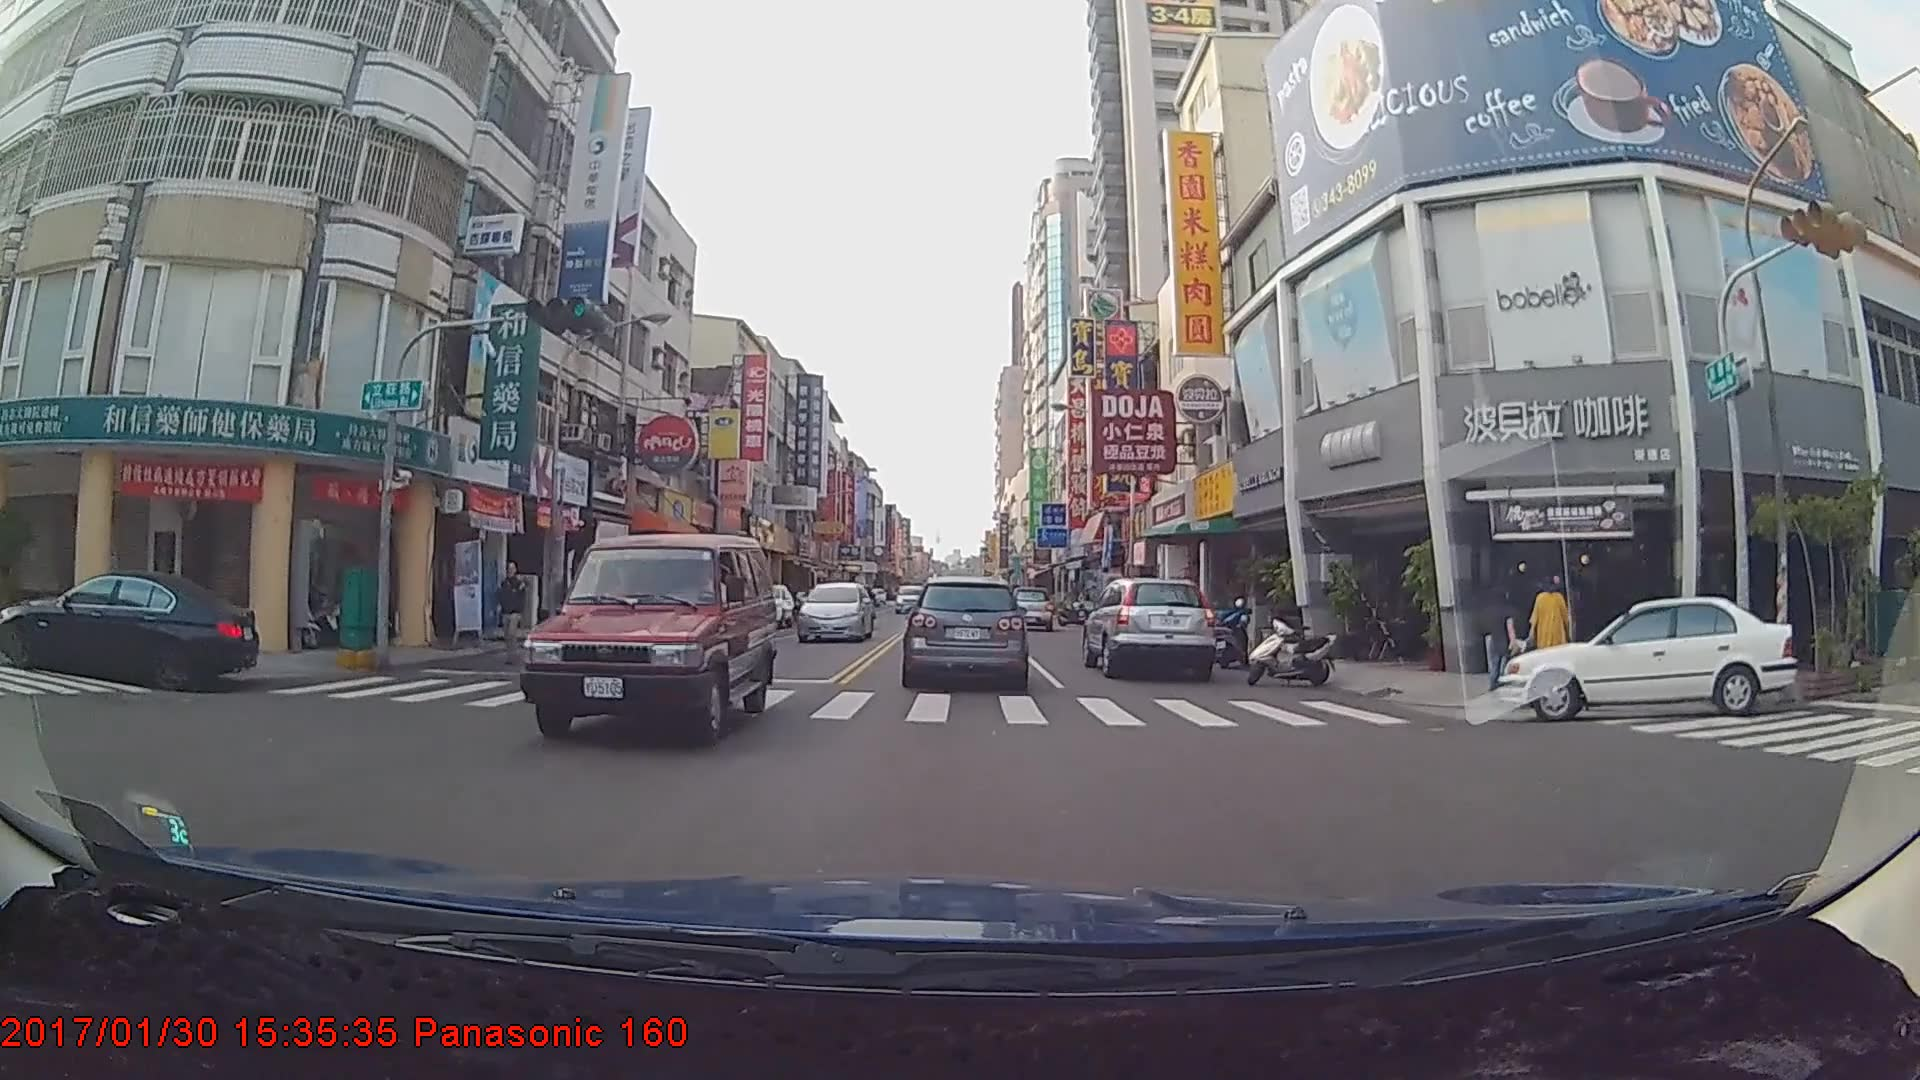pedestrian: (1529, 570, 1572, 676), (490, 562, 535, 664), (1485, 587, 1523, 691)
vehicle: (508, 531, 779, 750), (1495, 594, 1796, 721), (0, 569, 258, 691), (1081, 576, 1217, 682), (905, 576, 1024, 688), (796, 579, 876, 643), (1006, 587, 1053, 631), (894, 583, 929, 614)
